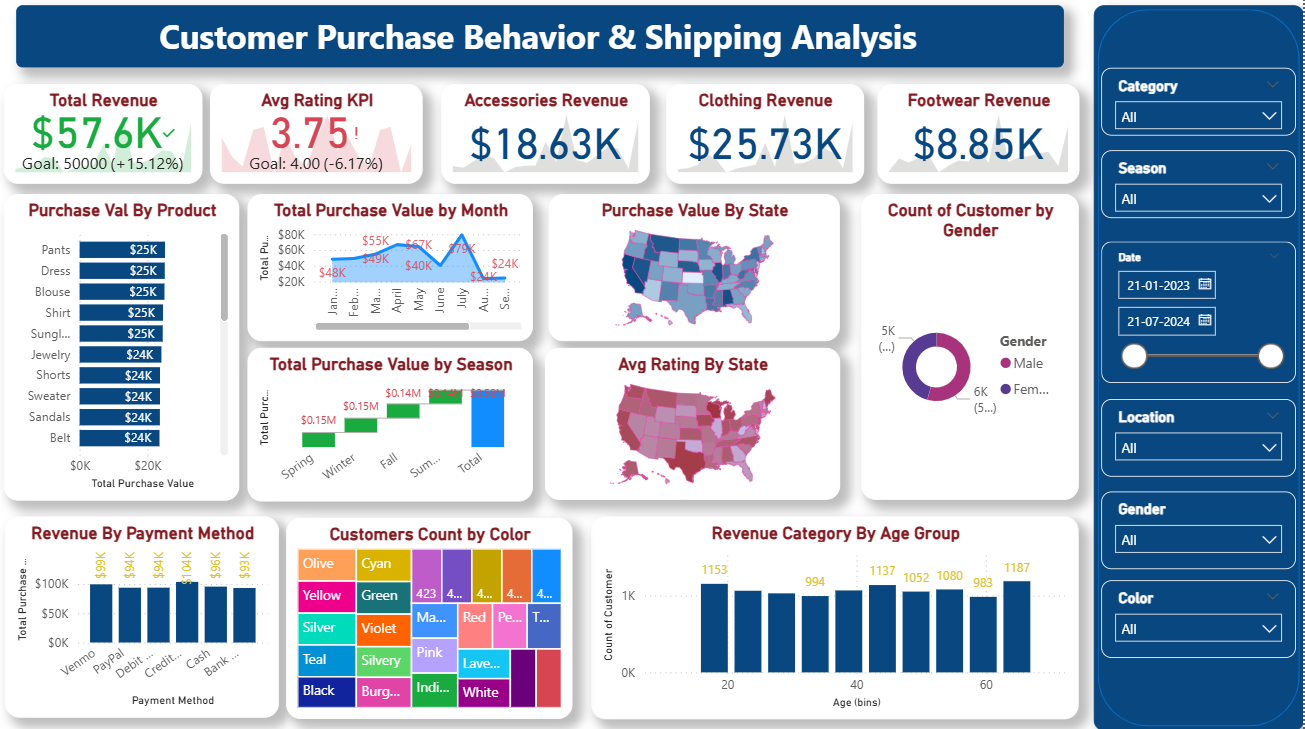

The page's visual inventory and layout, read from the dashboard file:
{"tool":"powerbi","page":{"name":"Dashboard","canvas":[1280,720],"ordinal":0},"visuals":[{"type":"textbox","box":[20.8,11,1024.7,61.1],"z":0},{"type":"shape","box":[1074.3,10.8,205.4,709.5],"z":1000},{"type":"kpi","title":"Total Revenue","fields":{"Indicator":["Measures Table.total puechase value"],"TrendLine":["data.Date"],"Goal":["Measures Table.Target Purchase Value"]},"box":[8,87.5,194.3,97.7],"z":2000},{"type":"kpi","title":"Avg Rating KPI","fields":{"TrendLine":["data.Date"],"Indicator":["Measures Table.Avg Rating"],"Goal":["Measures Table.Target Avg Rating"]},"box":[210.8,87.8,208.1,97.3],"z":3000},{"type":"kpi","title":"Accessories Revenue","fields":{"Indicator":["Measures Table.total puechase value"],"TrendLine":["data.Date"]},"box":[436.5,87.8,204.1,97.3],"z":4000},{"type":"kpi","title":"Clothing Revenue","fields":{"Indicator":["Measures Table.total puechase value"],"TrendLine":["data.Date"]},"box":[656.8,87.8,193.2,97.3],"z":5000},{"type":"kpi","title":"Footwear Revenue","fields":{"Indicator":["Measures Table.total puechase value"],"TrendLine":["data.Date"]},"box":[863.5,87.8,197.3,97.3],"z":6000},{"type":"clusteredBarChart","title":"Purchase Val By Product","fields":{"Category":["data.Item Purchased"],"Y":["Measures Table.Total Purchase Value"]},"box":[8,195.5,230.7,300],"z":7000},{"type":"areaChart","fields":{"Category":["data.Date.Variation.Date Hierarchy.Month"],"Y":["Measures Table.Total Purchase Value"]},"box":[246.6,195.5,279.5,144.3],"z":8000},{"type":"waterfallChart","fields":{"Y":["Measures Table.Total Purchase Value"],"Category":["data.Season"]},"box":[246.6,345.5,279.5,150],"z":9000},{"type":"shapeMap","title":"Purchase Value By State","fields":{"Category":["data.Location"],"Value":["Measures Table.Total Purchase Value"]},"box":[541.7,195.7,284.9,144.3],"z":10000},{"type":"shapeMap","title":"Avg Rating By State","fields":{"Category":["data.Location"],"Value":["Measures Table.Avg Rating"]},"box":[538,346.1,288.6,149.2],"z":11000},{"type":"slicer","fields":{"Values":["data.Category"]},"box":[1082.2,72.1,190.8,66],"z":12000},{"type":"slicer","fields":{"Values":["data.Season"]},"box":[1082.2,152.9,190.8,66],"z":13000},{"type":"slicer","fields":{"Values":["data.Date"]},"box":[1082.2,242.1,190.8,138.2],"z":14000},{"type":"slicer","fields":{"Values":["data.Location"]},"box":[1082.2,396.2,190.8,75.8],"z":15000},{"type":"slicer","fields":{"Values":["data.Gender"]},"box":[1082.2,486.7,190.8,75.8],"z":16000},{"type":"donutChart","fields":{"Category":["data.Gender"],"Y":["Count of Customers.Count of Customers"]},"box":[847.4,195.7,212.8,299.6],"z":17000},{"type":"columnChart","title":"Revenue By Payment Method","fields":{"Y":["Count of Customers.Total Purchase Value"],"Category":["data.Payment Method"]},"box":[9.8,511.1,267.8,196.9],"z":18000},{"type":"slicer","fields":{"Values":["data.Color"]},"box":[1082.2,573.5,190.8,75.8],"z":19000},{"type":"columnChart","title":"Revenue Category By Age Group","fields":{"Category":["data.Age (bins)"],"Y":["Count of Customers.Count of Customers"]},"box":[583.3,511.1,476.9,198.1],"z":20000},{"type":"treemap","title":"Customers Count By Color","fields":{"Group":["data.Color"],"Values":["Count of Customers.Count of Customers"]},"box":[285.4,512.9,280,196.6],"z":21000}]}

Visuals, with their boxes in screenshot pixels (x1, y1, x2, y2), scaled from the page's 1280x720 canvas onto the 1305x729 screenshot:
textbox: left=21, top=11, right=1066, bottom=73
shape: left=1095, top=11, right=1304, bottom=728
"Total Revenue" kpi: left=8, top=89, right=206, bottom=188
"Avg Rating KPI" kpi: left=215, top=89, right=427, bottom=187
"Accessories Revenue" kpi: left=445, top=89, right=653, bottom=187
"Clothing Revenue" kpi: left=670, top=89, right=867, bottom=187
"Footwear Revenue" kpi: left=880, top=89, right=1082, bottom=187
"Purchase Val By Product" clusteredBarChart: left=8, top=198, right=243, bottom=502
areaChart - data.Date.Variation.Date Hierarchy.Month x Measures Table.Total Purchase Value: left=251, top=198, right=536, bottom=344
waterfallChart - Measures Table.Total Purchase Value x data.Season: left=251, top=350, right=536, bottom=502
"Purchase Value By State" shapeMap: left=552, top=198, right=843, bottom=344
"Avg Rating By State" shapeMap: left=549, top=350, right=843, bottom=501
slicer - data.Category: left=1103, top=73, right=1298, bottom=140
slicer - data.Season: left=1103, top=155, right=1298, bottom=222
slicer - data.Date: left=1103, top=245, right=1298, bottom=385
slicer - data.Location: left=1103, top=401, right=1298, bottom=478
slicer - data.Gender: left=1103, top=493, right=1298, bottom=570
donutChart - data.Gender x Count of Customers.Count of Customers: left=864, top=198, right=1081, bottom=501
"Revenue By Payment Method" columnChart: left=10, top=517, right=283, bottom=717
slicer - data.Color: left=1103, top=581, right=1298, bottom=657
"Revenue Category By Age Group" columnChart: left=595, top=517, right=1081, bottom=718
"Customers Count By Color" treemap: left=291, top=519, right=576, bottom=718
